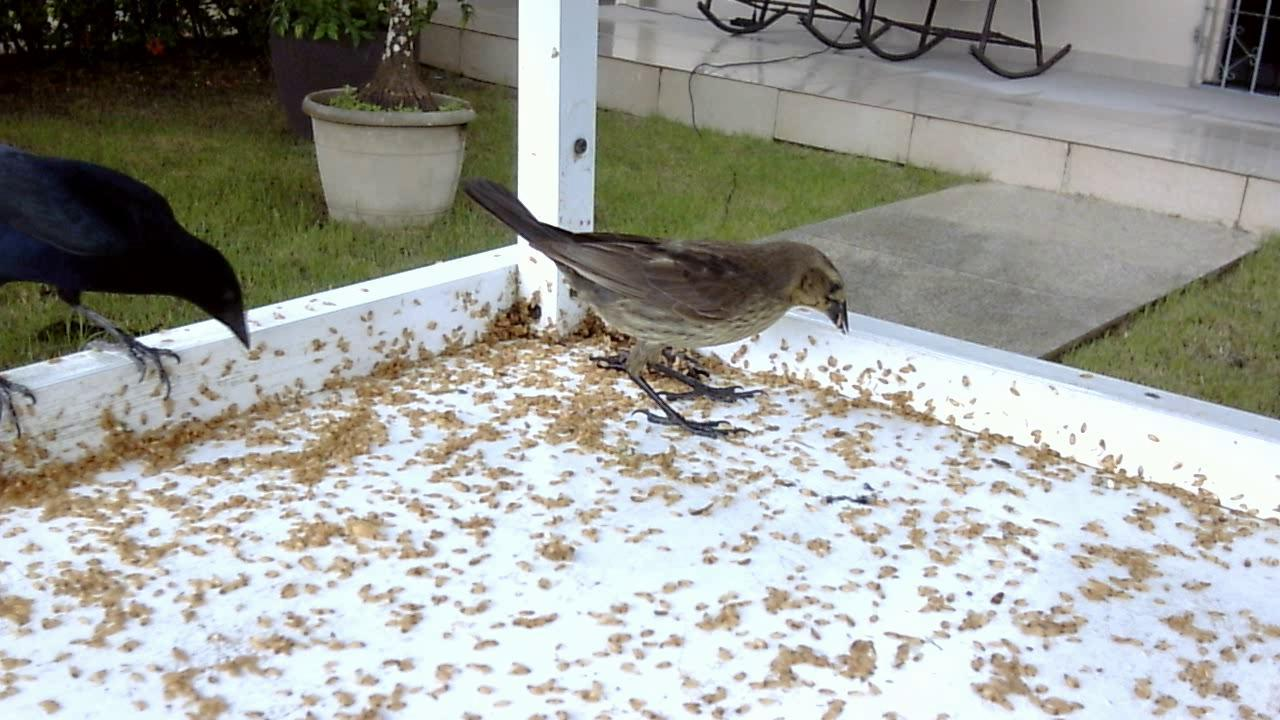chupim: (453, 168, 854, 453), (1, 138, 261, 433)
